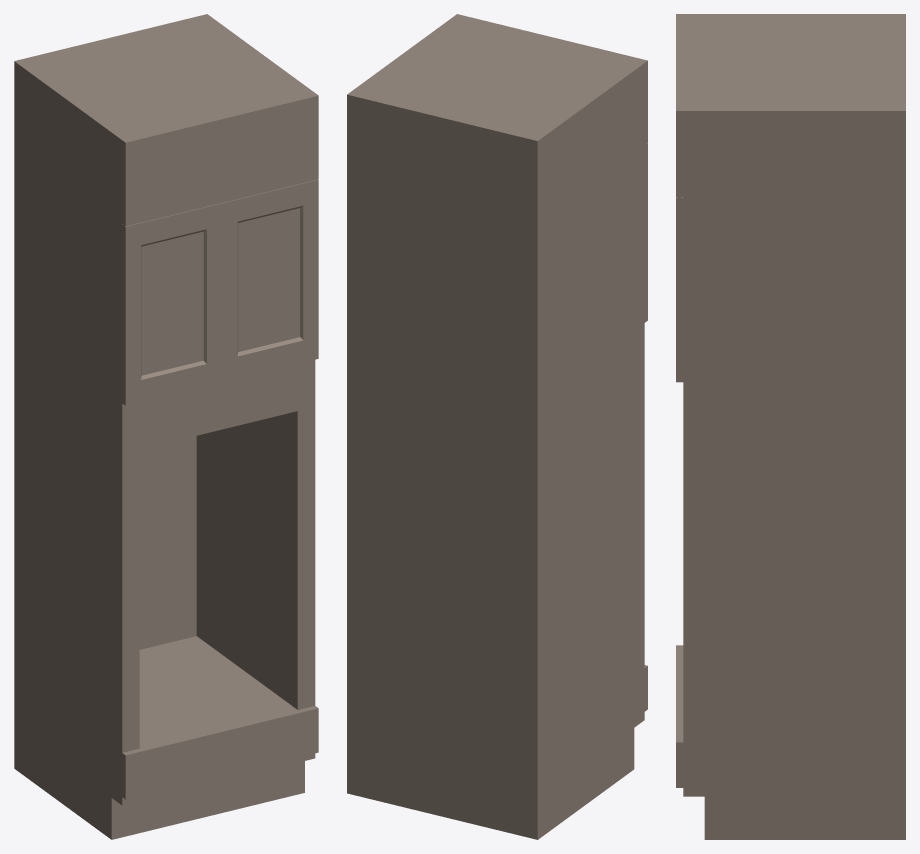
The model's file is WHP-Double-Tall-Oven-Cabinet_std_001_W24in.glb.
The picture shows the model from 3 angles, left to right: view 1: azimuth 30°, elevation 25°; view 2: azimuth 150°, elevation 25°; view 3: azimuth 270°, elevation 25°; orthographic projection. The views are drawn at different scales.
Parts seen in each view (by area): view 1: WHP-Double-Tall-Oven-Cabinet.std.001_W24in; view 2: WHP-Double-Tall-Oven-Cabinet.std.001_W24in; view 3: WHP-Double-Tall-Oven-Cabinet.std.001_W24in.
Boxes of the visible parts, x1,y1,x2,y2 form: WHP-Double-Tall-Oven-Cabinet.std.001_W24in: (14, 14, 318, 839); WHP-Double-Tall-Oven-Cabinet.std.001_W24in: (347, 14, 647, 839); WHP-Double-Tall-Oven-Cabinet.std.001_W24in: (676, 14, 905, 839).
Size of the model in its own units: 0.6096 by 2.13 by 0.6096.
